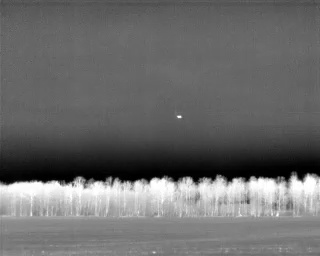DRONE: (174, 111, 185, 122)
